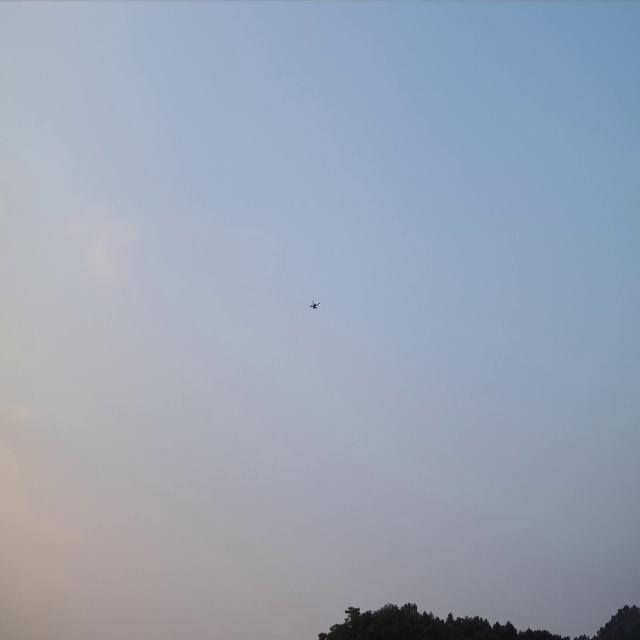UAV: (309, 301, 320, 311)
